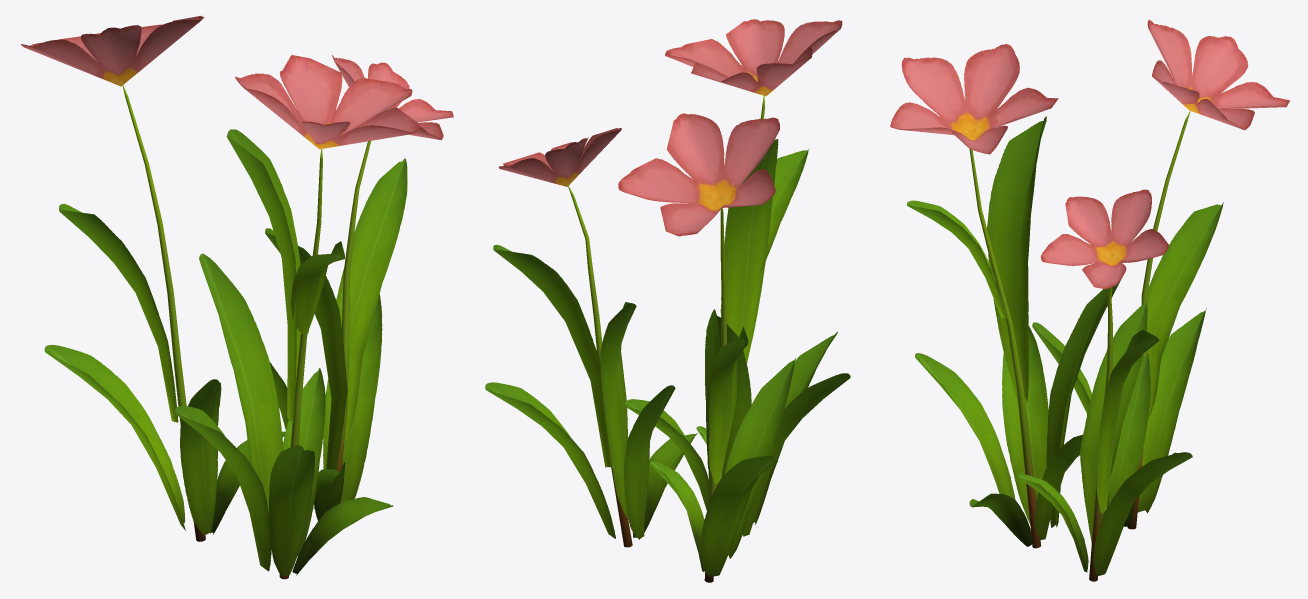
The model's file is fleurs-3.glb.
3 renders of one model, left to right at view 1: azimuth 30°, elevation 25°; view 2: azimuth 150°, elevation 25°; view 3: azimuth 270°, elevation 25°, orthographic. The views are drawn at different scales.
Visible parts, largest first — view 1: Flower_3_Group; view 2: Flower_3_Group; view 3: Flower_3_Group.
Boxes of the visible parts, x1,y1,x2,y2 form: Flower_3_Group: (21,15,453,579); Flower_3_Group: (485,19,850,582); Flower_3_Group: (890,19,1289,581).
Size of the model in its own units: 1.49 by 2.05 by 1.59.
2 materials, 2 textured.
